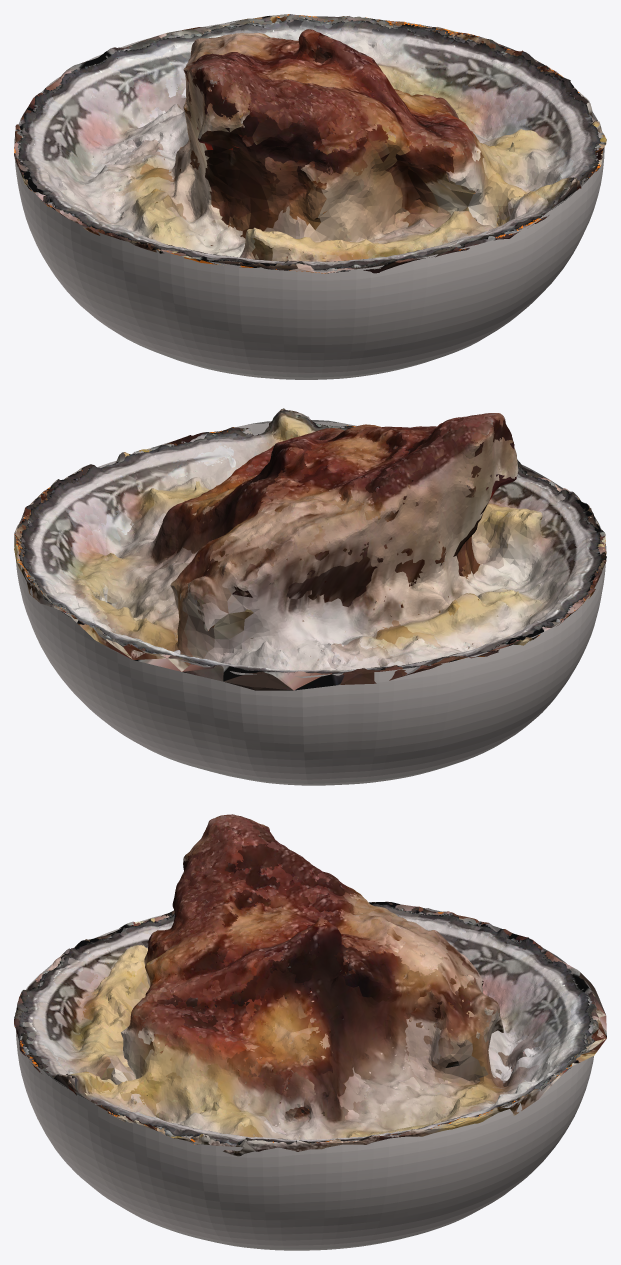
Rendered from pollo.glb.
3 renders of one model, top to bottom at view 1: azimuth 30°, elevation 25°; view 2: azimuth 150°, elevation 25°; view 3: azimuth 270°, elevation 25°, orthographic.
Parts seen in each view (by area): view 1: node; view 2: node; view 3: node.
Boxes of the visible parts, x1=… form: node: x1=14, y1=14, x2=606, y2=379; node: x1=14, y1=408, x2=606, y2=785; node: x1=14, y1=814, x2=606, y2=1250.
Bounding box in the file's own units: 0.1992 × 0.1104 × 0.2.
2 materials, 2 textured.
